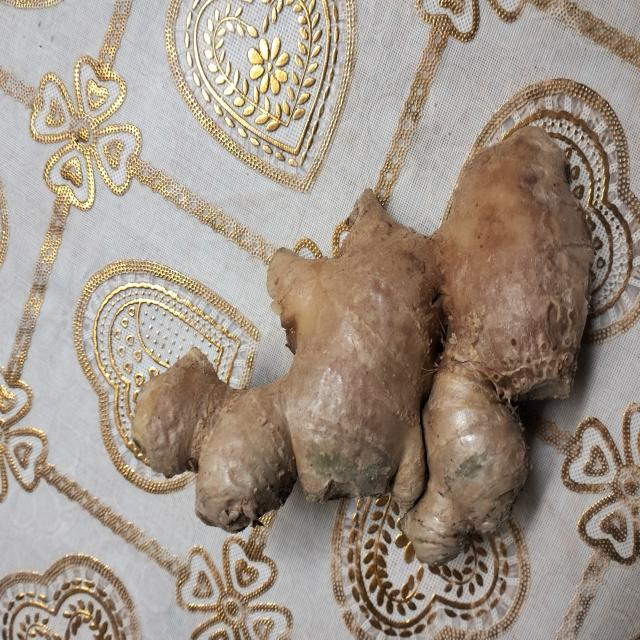ginger: (108, 113, 603, 586)
